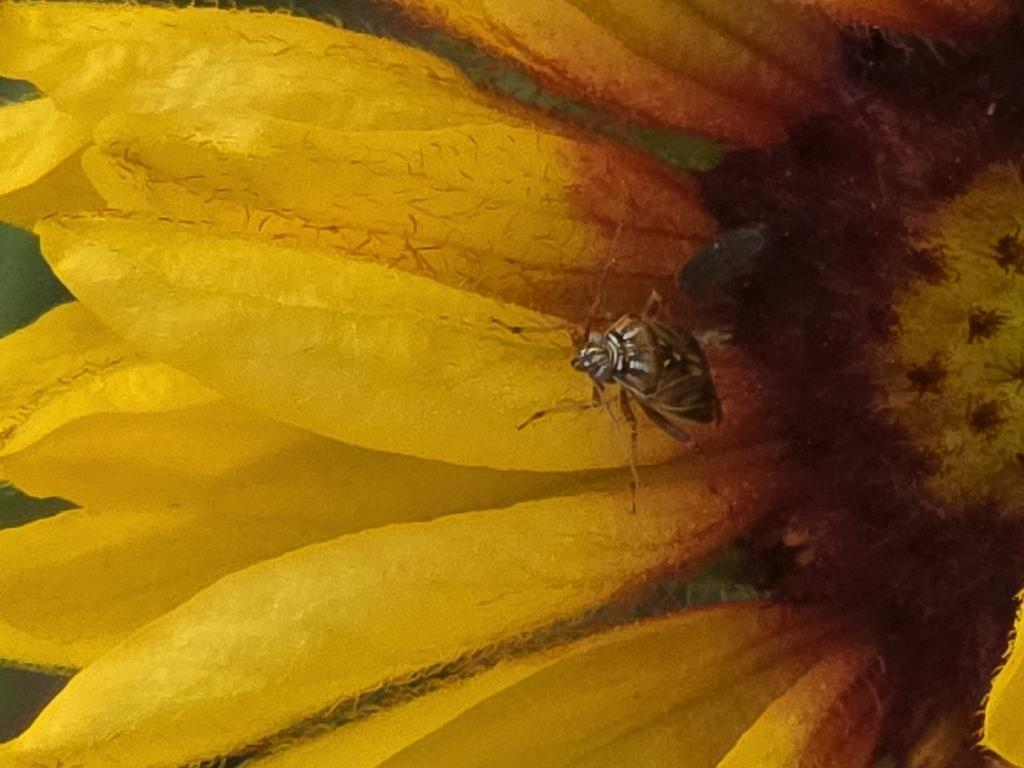plant_bugs: (466, 208, 787, 511)
